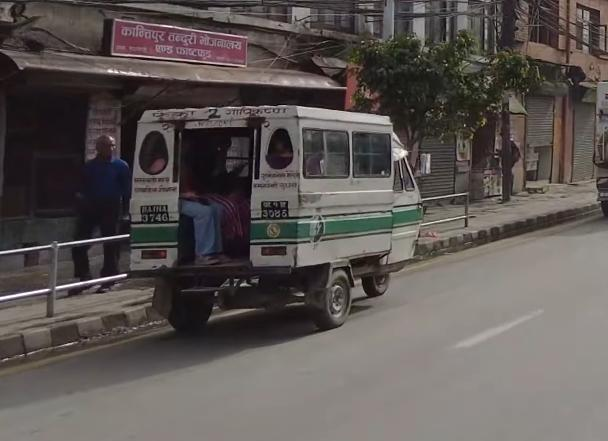tempo: (117, 91, 429, 334)
